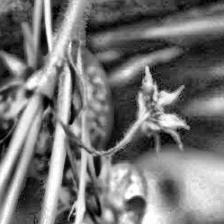Gray Mold: (128, 66, 190, 159)
